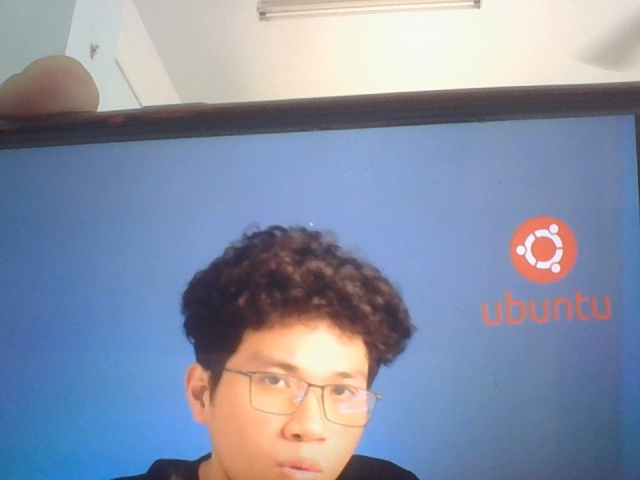fake: (202, 260, 374, 480)
